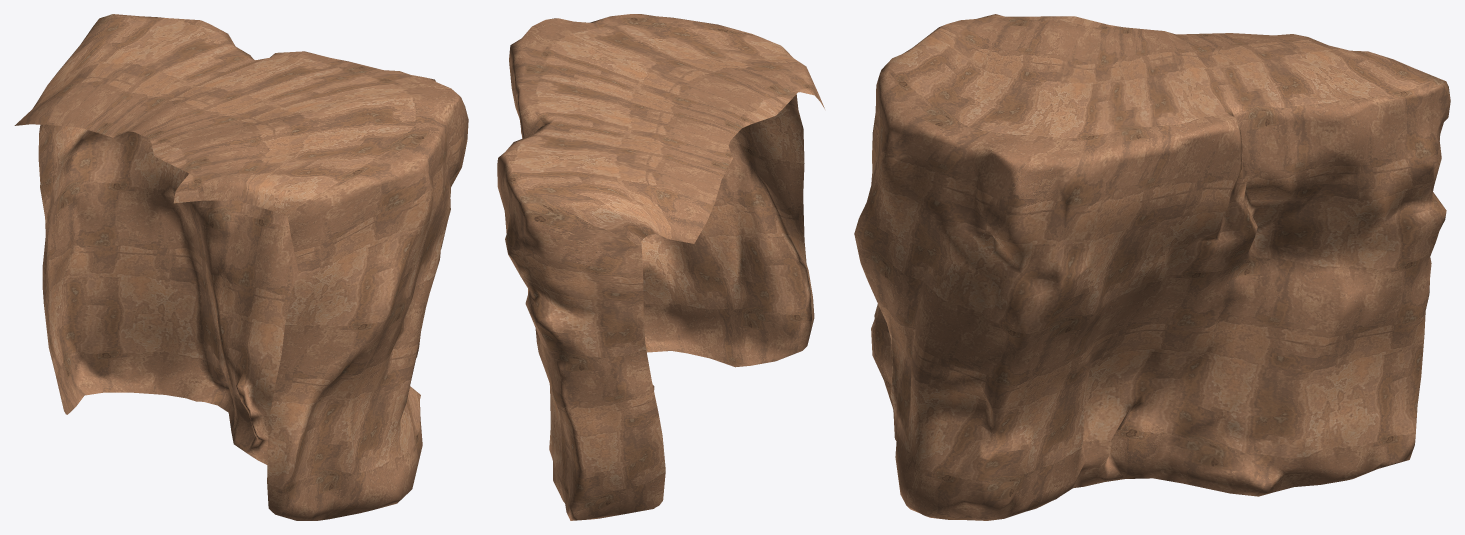
The model's file is Ob_RockCliff23.fbx.
3 views of the same model, side by side, from view 1: azimuth 30°, elevation 25°; view 2: azimuth 150°, elevation 25°; view 3: azimuth 270°, elevation 25° (orthographic). The views are drawn at different scales.
Parts seen in each view (by area): view 1: Ob_RockCliff23; view 2: Ob_RockCliff23; view 3: Ob_RockCliff23.
Boxes of the visible parts, x1=… form: Ob_RockCliff23: x1=14, y1=14, x2=468, y2=520; Ob_RockCliff23: x1=497, y1=14, x2=824, y2=520; Ob_RockCliff23: x1=854, y1=14, x2=1450, y2=520.
Size of the model in its own units: 15991 by 17674 by 22470.
